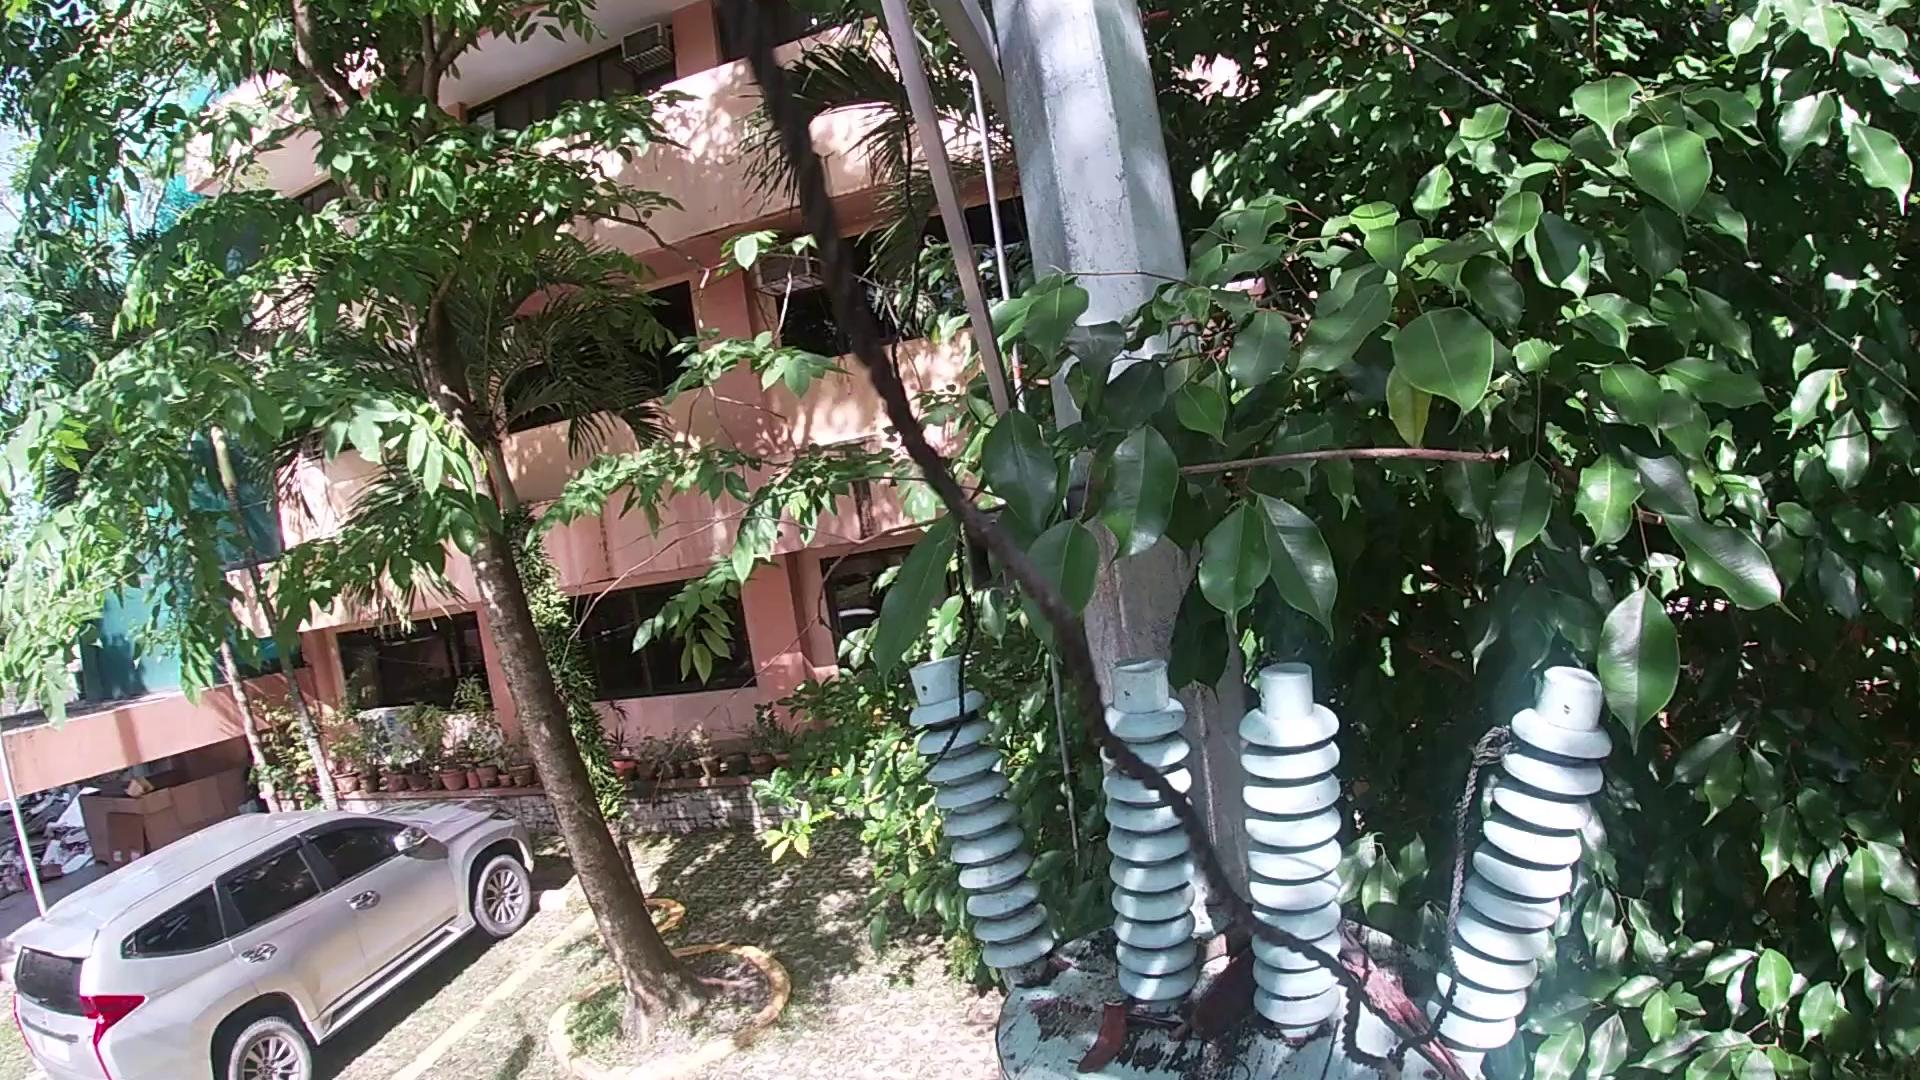mahogany fruit: (1179, 955, 1259, 1046), (1069, 997, 1133, 1069)
tree branch: (527, 433, 1524, 719), (1340, 930, 1487, 1077), (1197, 934, 1236, 972), (1164, 1026, 1189, 1048)
